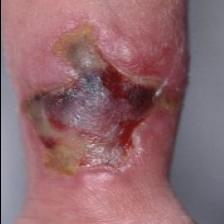extravasation-wound: (13, 23, 186, 179)
